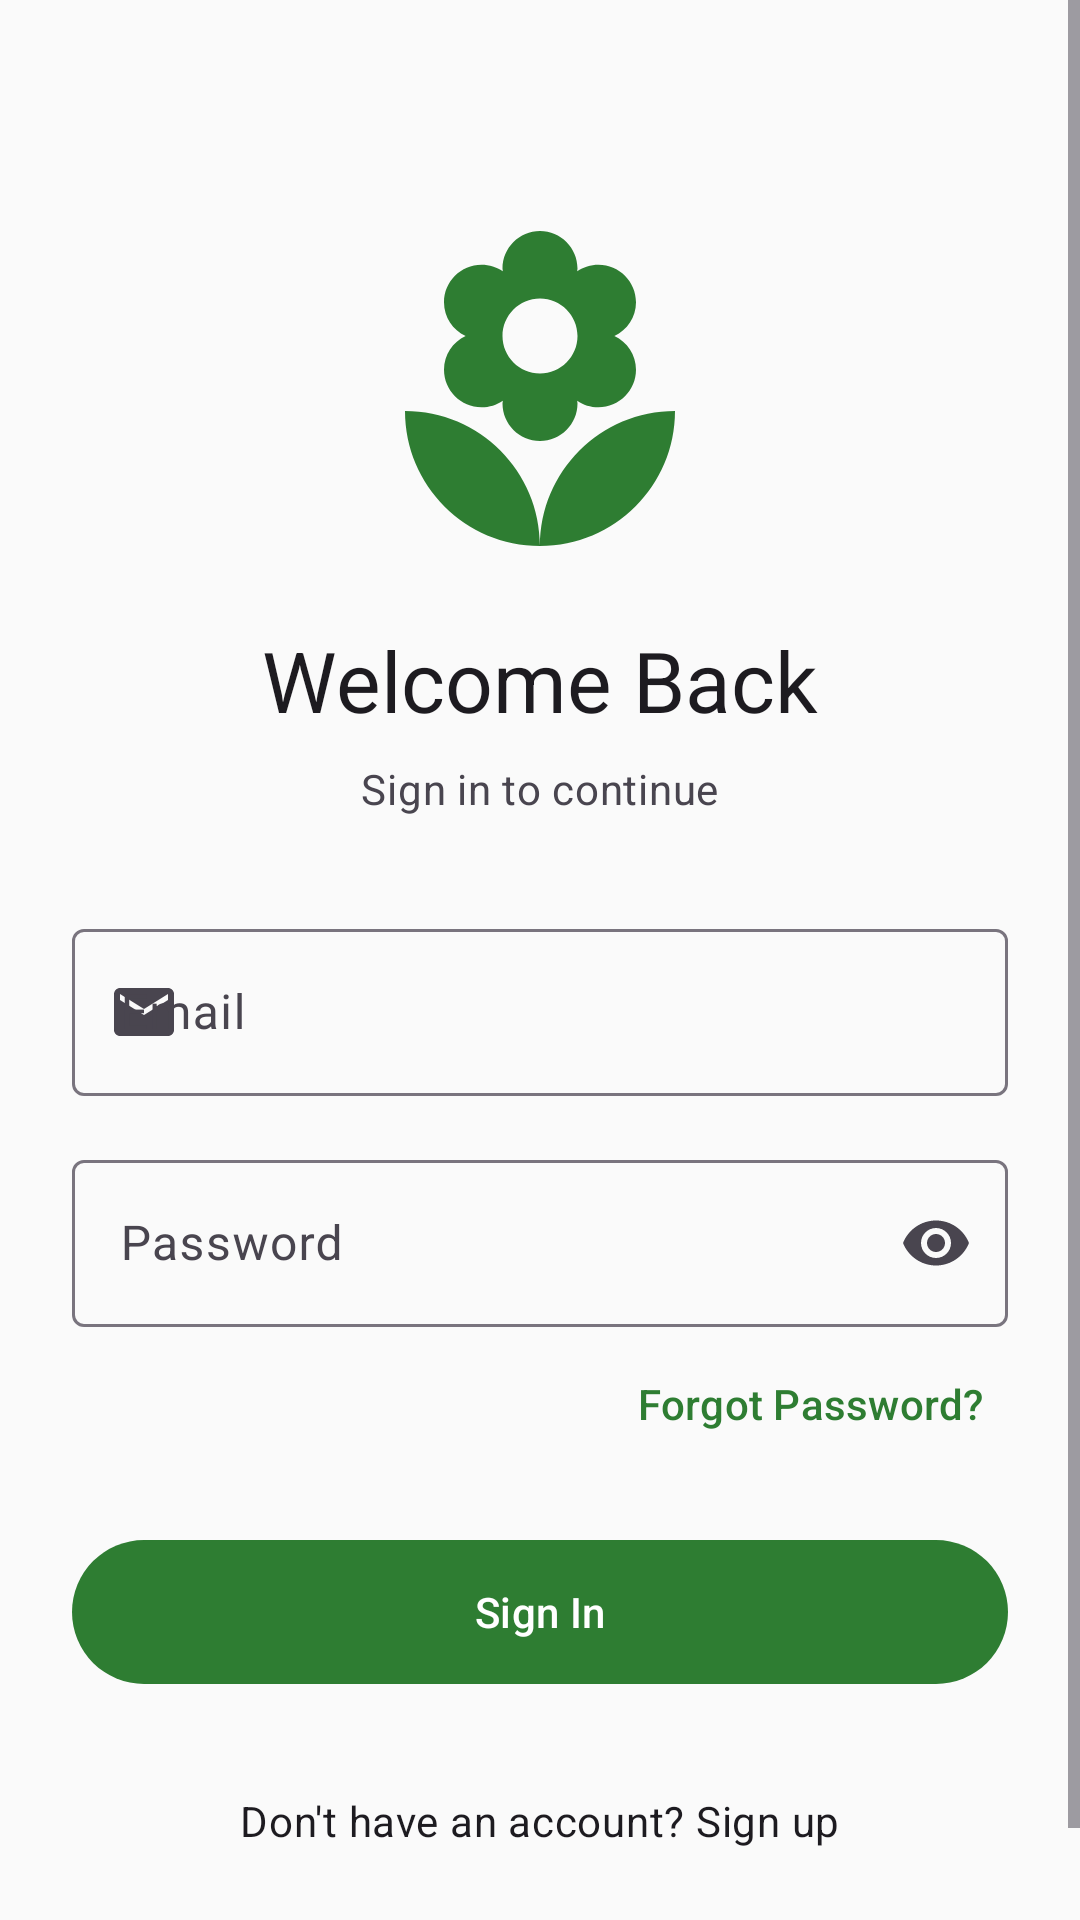

Where to tap for icons on this 1080x1920 app screen, as point (x, y):
plant: point (540, 388)
